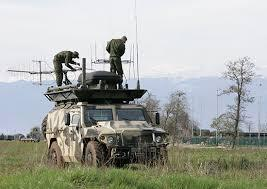armored_car: (19, 69, 175, 172)
person: (51, 47, 82, 86), (105, 35, 130, 81)
